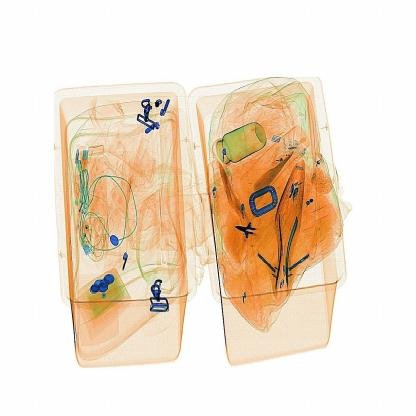gun: (222, 211, 266, 252)
